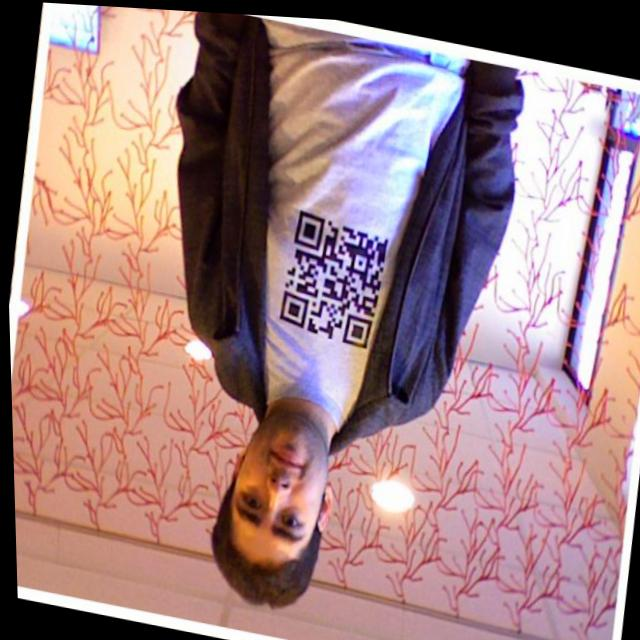qrcode: (275, 205, 392, 346)
